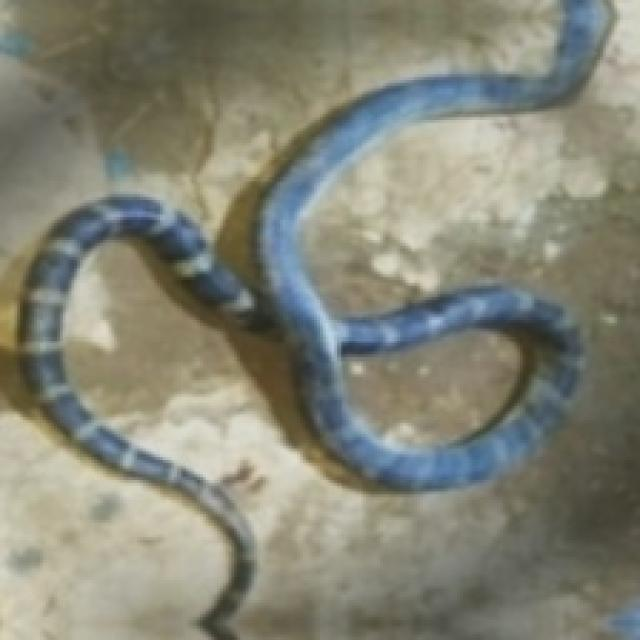king cobra: (66, 0, 637, 637), (0, 0, 554, 637), (349, 334, 520, 437)
